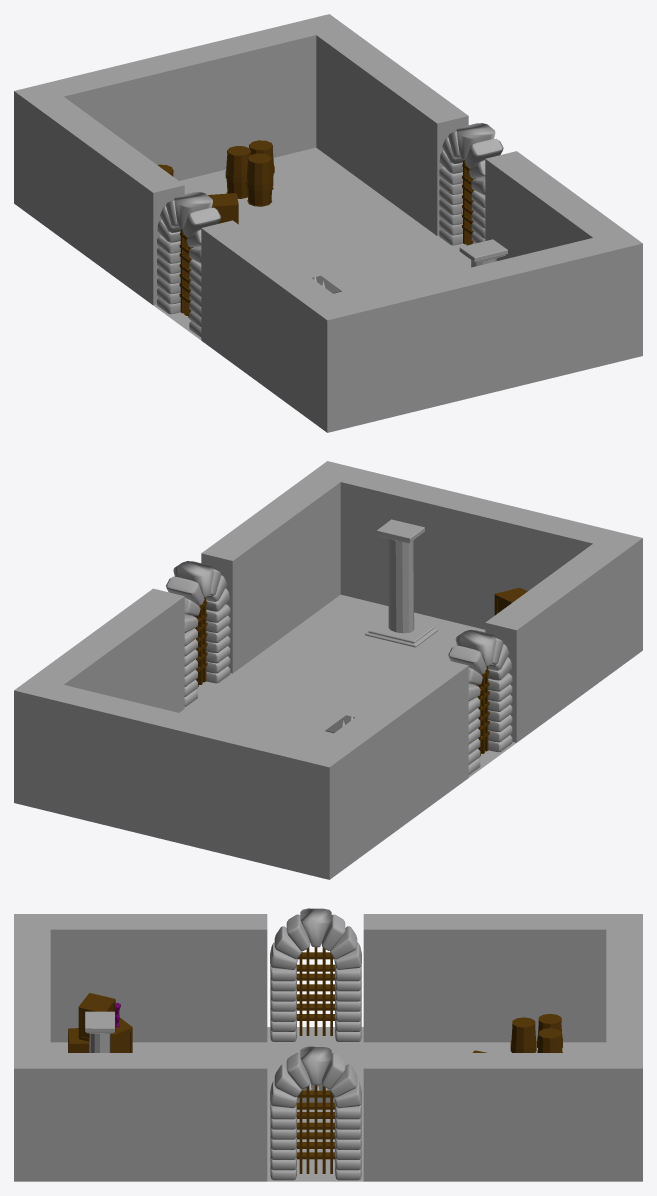
Rendered from ReworkedFirstexampleRoom.fbx.
3 renders of one model, top to bottom at view 1: azimuth 30°, elevation 25°; view 2: azimuth 150°, elevation 25°; view 3: azimuth 270°, elevation 25°, orthographic.
Parts seen in each view (by area): view 1: polySurface300; view 2: polySurface300; view 3: polySurface300.
Part boxes in pixels (x1,y1,x2,y2): polySurface300: [14, 14, 642, 432]; polySurface300: [14, 461, 642, 879]; polySurface300: [14, 908, 642, 1181].
Bounding box in the file's own units: 23.74 × 9.83 × 40.85.
